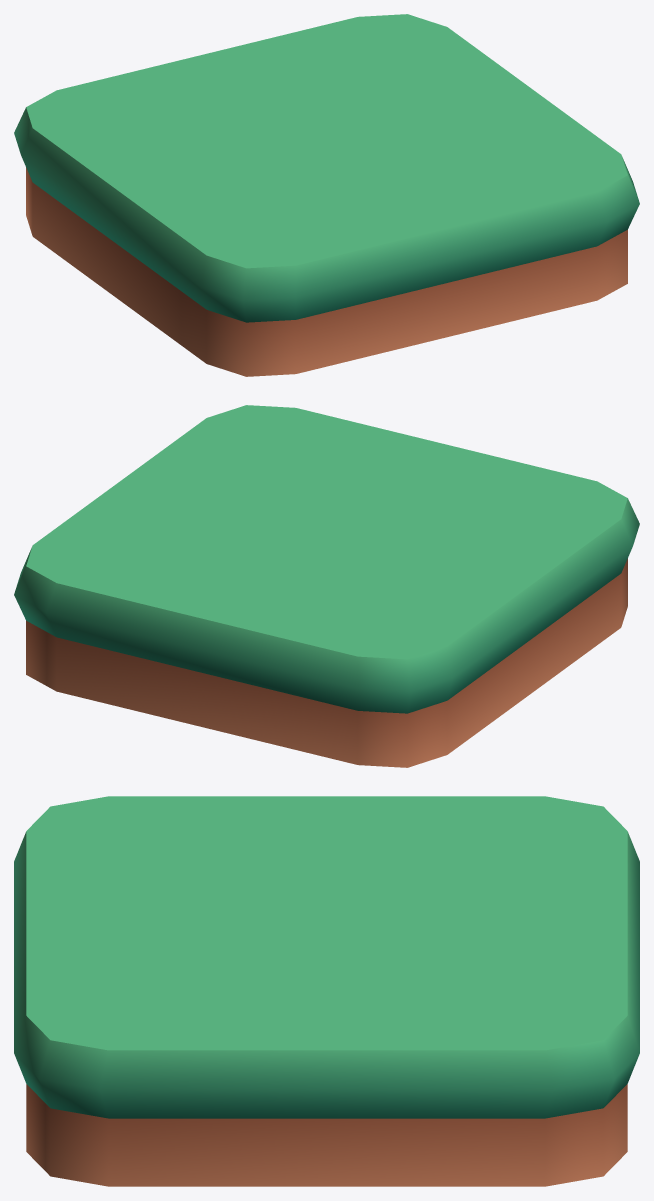
Rendered from block-low.glb.
3 views of the same model, one above another, from view 1: azimuth 30°, elevation 25°; view 2: azimuth 150°, elevation 25°; view 3: azimuth 270°, elevation 25° (orthographic). The views are drawn at different scales.
Visible parts, largest first — view 1: block-grass-low-large; view 2: block-grass-low-large; view 3: block-grass-low-large.
Part boxes in pixels (x1,y1,x2,y2): block-grass-low-large: (14,14,639,376); block-grass-low-large: (14,405,639,767); block-grass-low-large: (14,796,639,1186).
Bounding box in the file's own units: 4.16 × 0.9999 × 4.16.
1 material, 1 textured.
